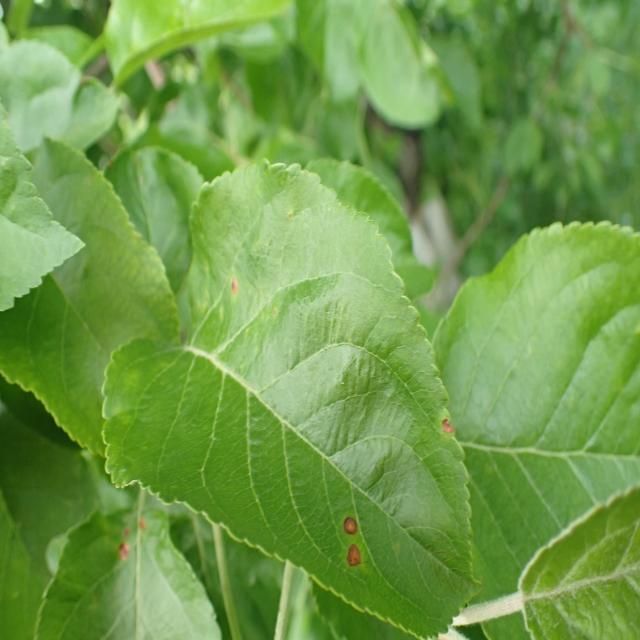Black Rot: (328, 504, 362, 540), (336, 542, 370, 578), (114, 516, 134, 577), (214, 272, 248, 307), (430, 412, 462, 446), (135, 505, 158, 550)
